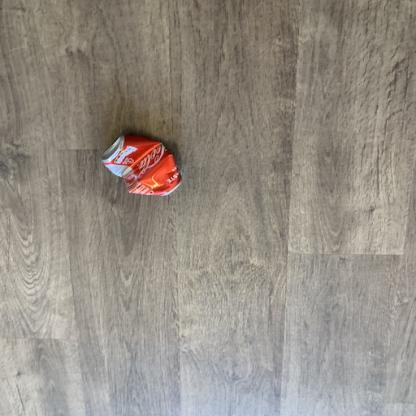trash: (99, 132, 186, 202)
